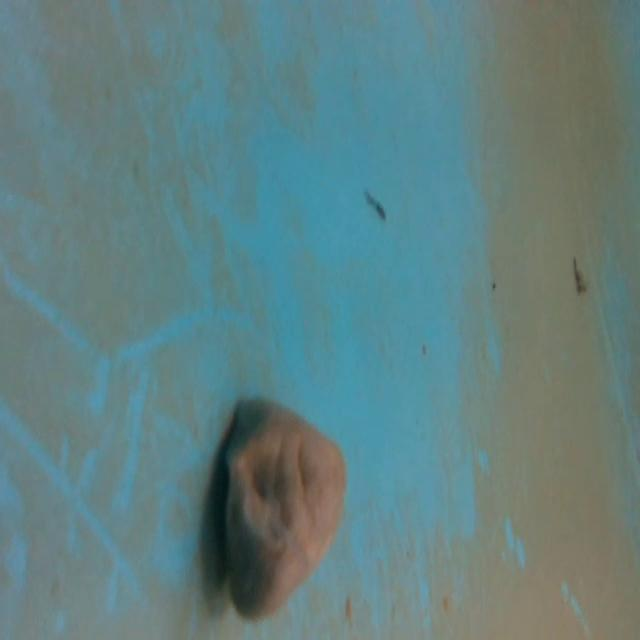rock: (215, 390, 352, 628)
